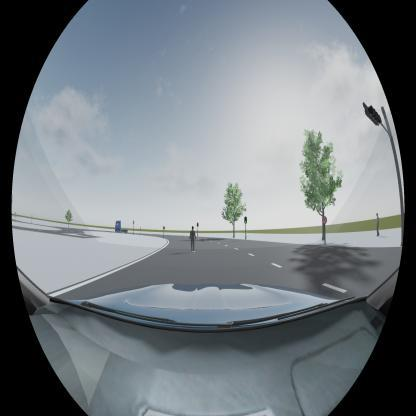Green Light: (244, 216, 247, 224)
